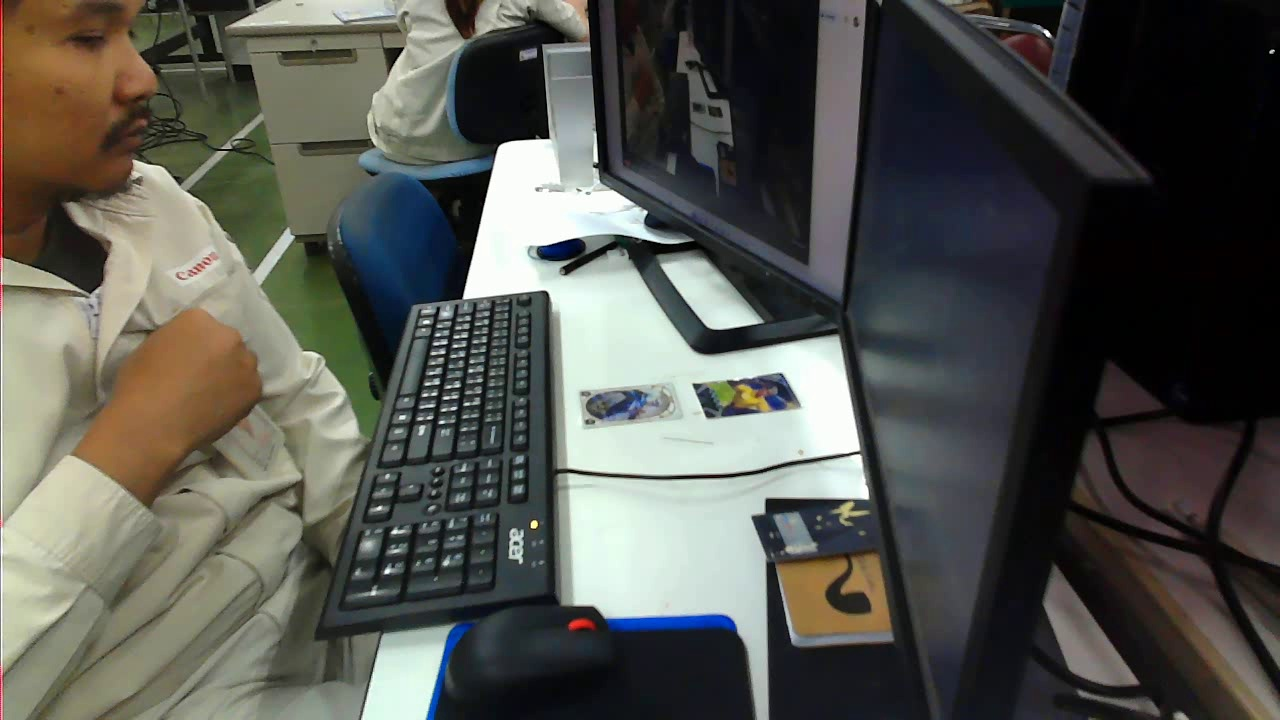can: (685, 365, 808, 419), (568, 376, 680, 429)
